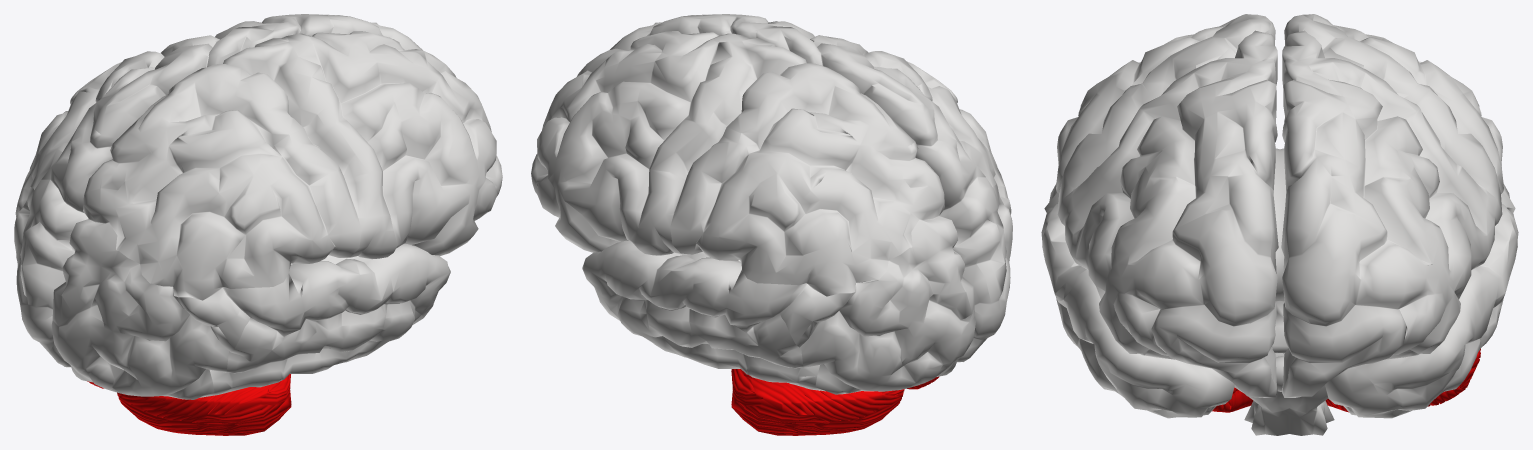
Rendered from brain.fbx.
The picture shows the model from 3 angles, left to right: view 1: azimuth 30°, elevation 25°; view 2: azimuth 150°, elevation 25°; view 3: azimuth 270°, elevation 25°; orthographic projection. The views are drawn at different scales.
Parts seen in each view (by area): view 1: instance_3; view 2: instance_3; view 3: instance_3.
Part boxes in pixels (bbox=[...]): instance_3: bbox=[14, 14, 502, 435]; instance_3: bbox=[531, 14, 1012, 435]; instance_3: bbox=[1041, 14, 1518, 435].
Size of the model in its own units: 199 by 155 by 163.
